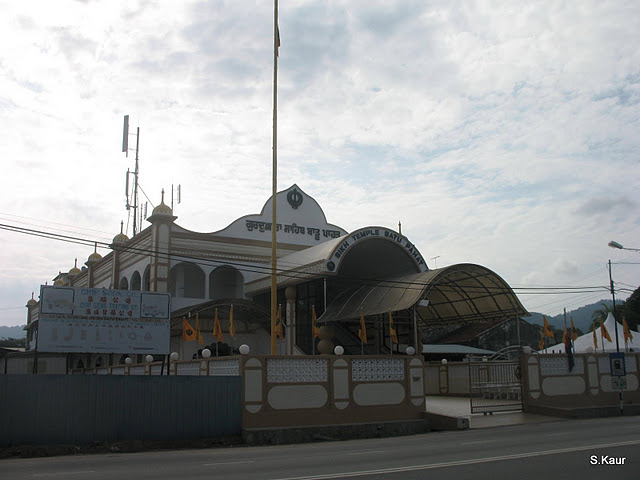Gurdwara: (61, 176, 437, 390)
